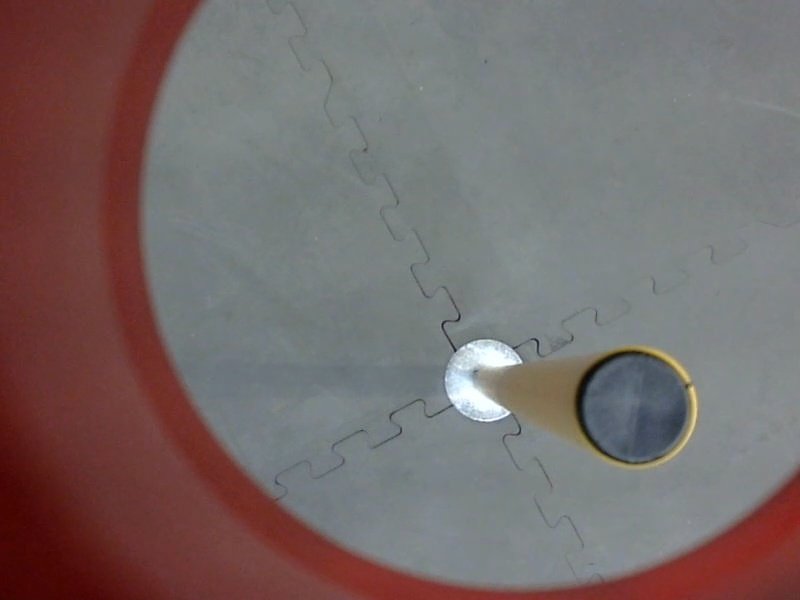tip: (565, 336, 702, 478)
